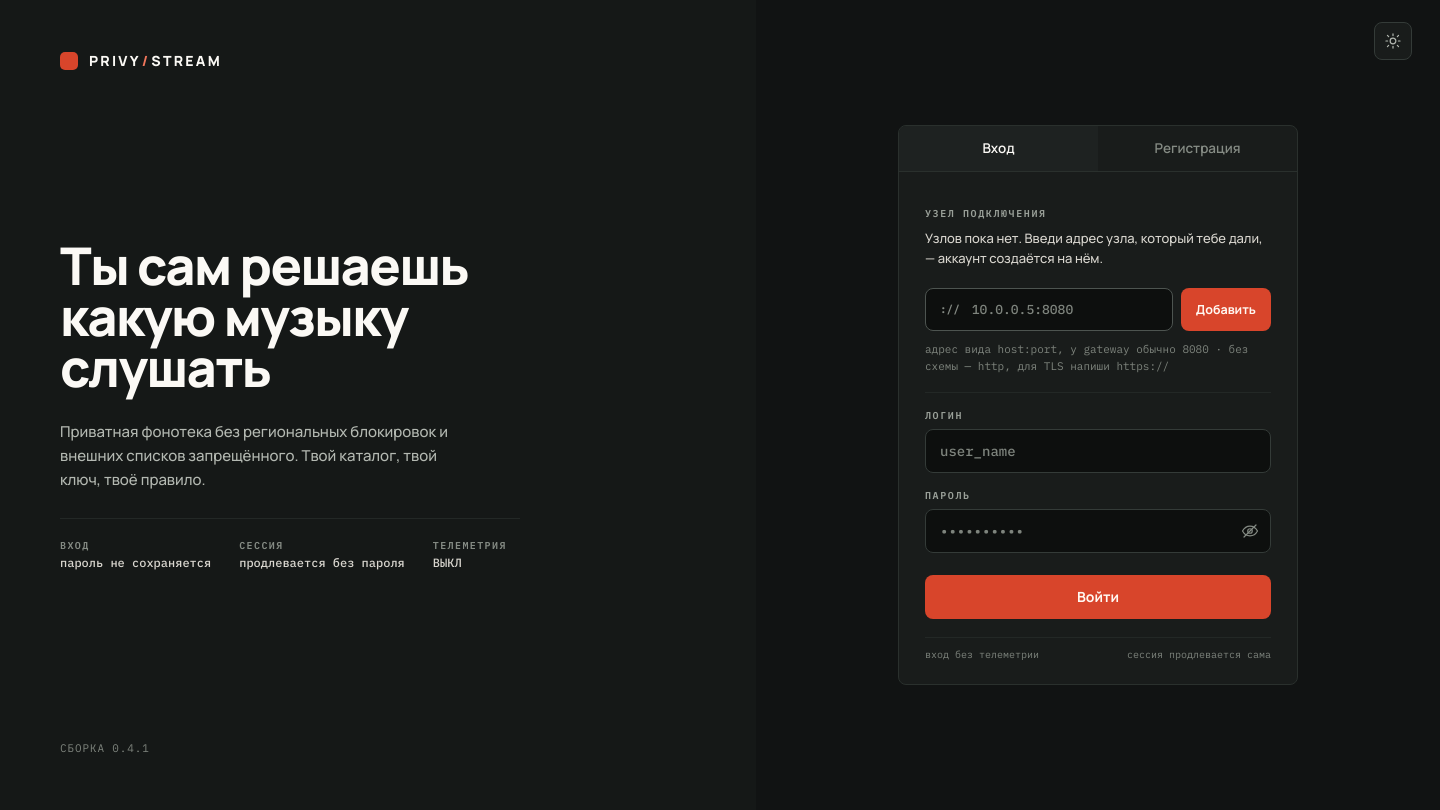
Test: keeps the address and offers a retry when the added node does not answer
This screenshot has width=1440, height=810.
Type "10.0.0.5:8443" into the field with placeholder "10.0.0.5:8080" at point(1064, 310), box [970,300,1158,319]
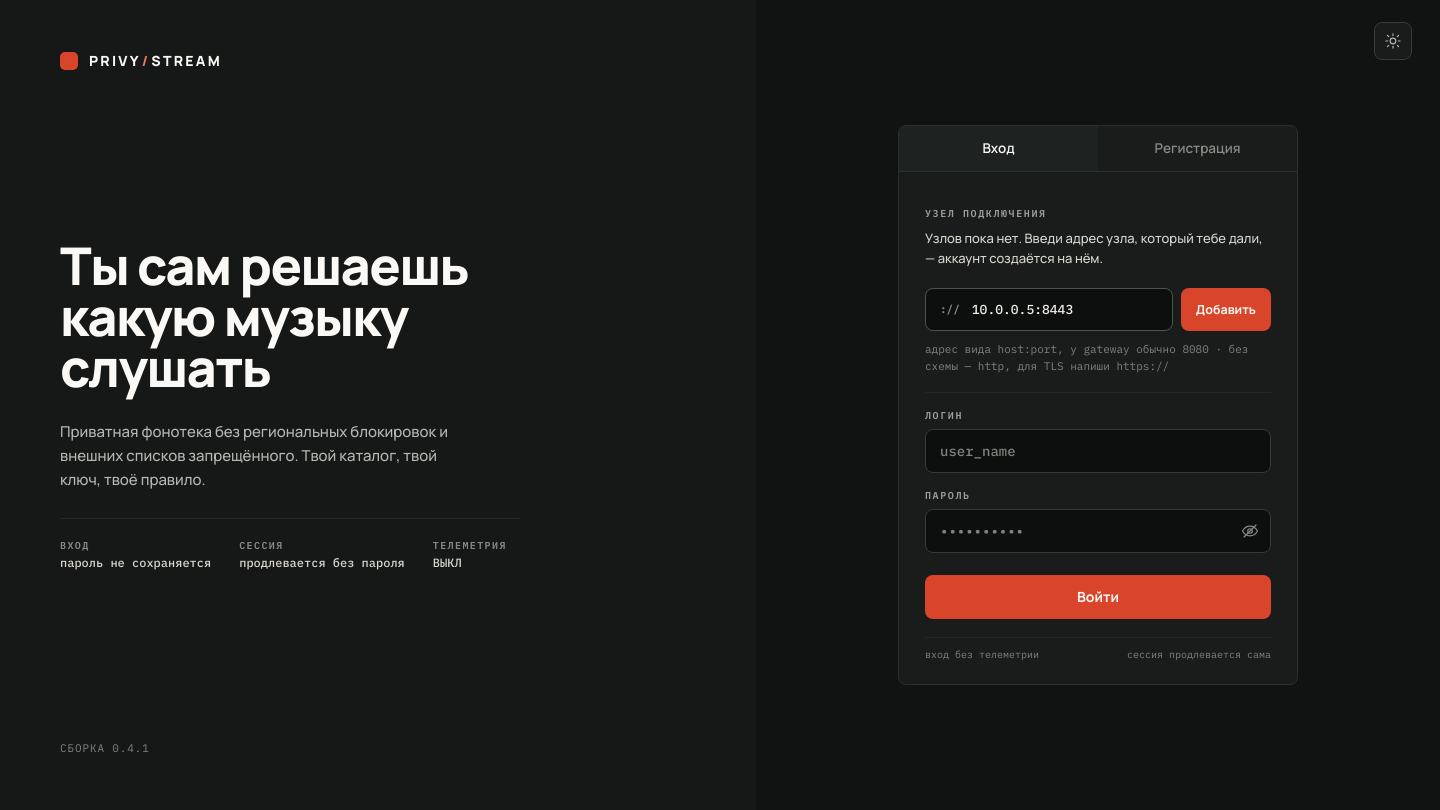
Click the button "Добавить" at point(1226, 310), box [1181,288,1271,331]
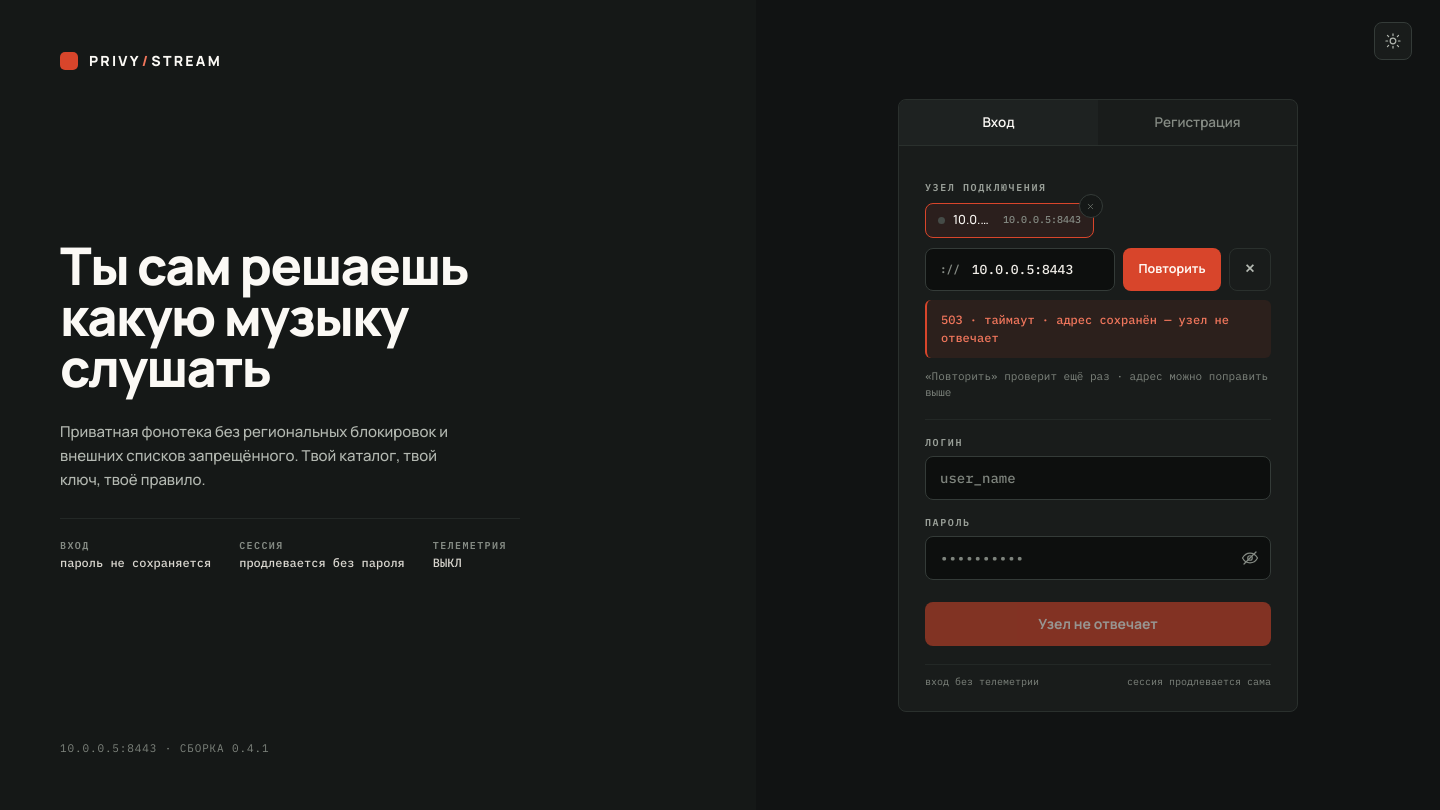
Expected: the text "503 · таймаут · адрес сохранён — узел не отвечает" is shown, [925,300,1271,358]
Click the button "Повторить" at point(1172, 269), box [1123,248,1220,290]
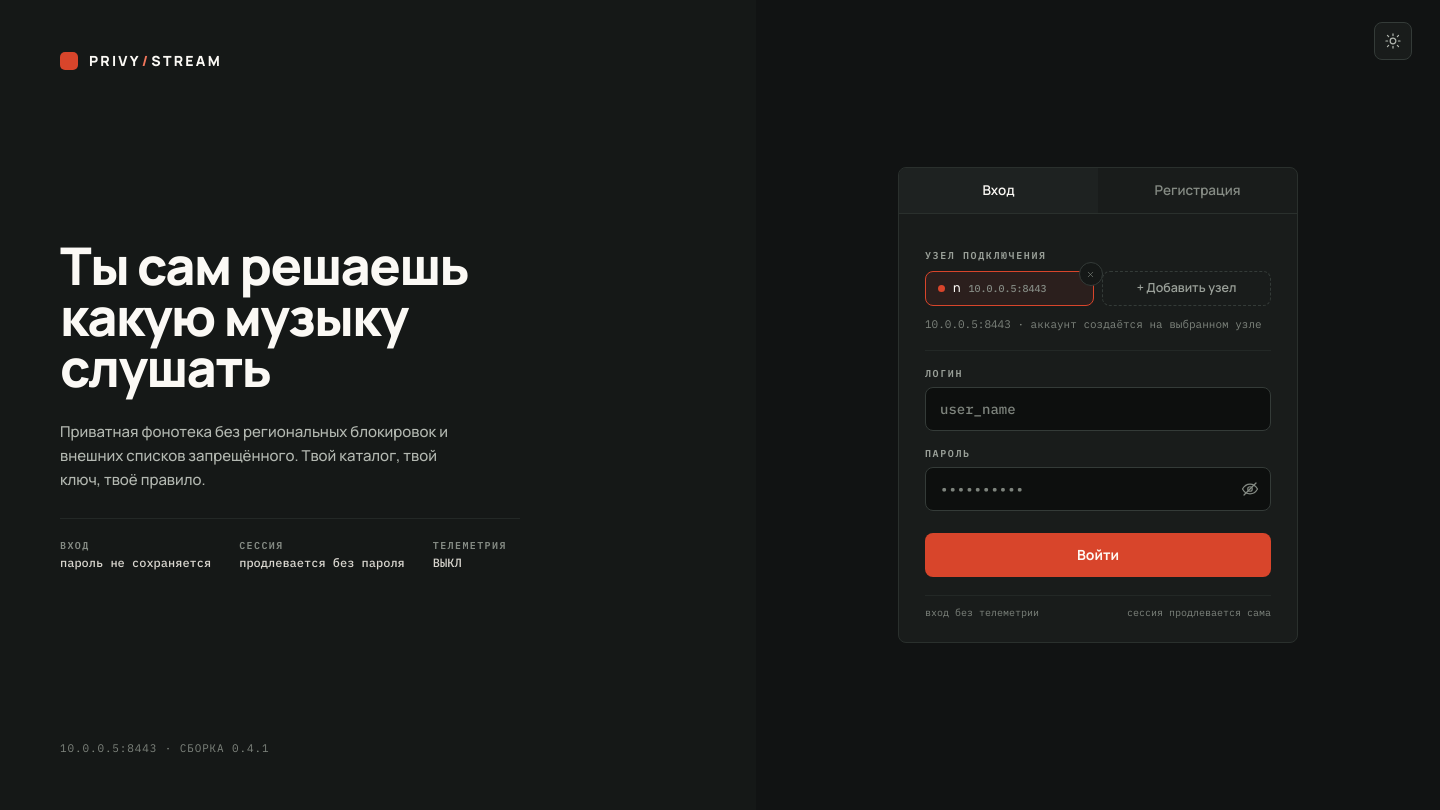
Expected: the button "Повторить" is gone
